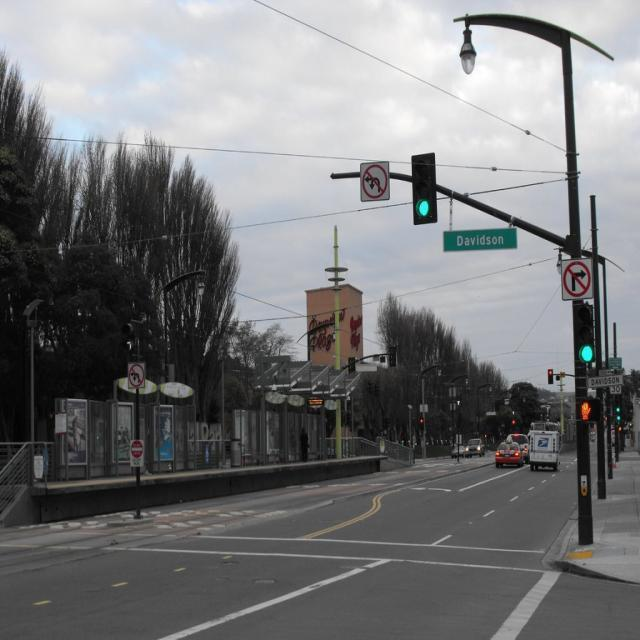road_sign: (562, 261, 592, 301)
traffic light: (410, 151, 437, 224), (577, 306, 595, 366)
